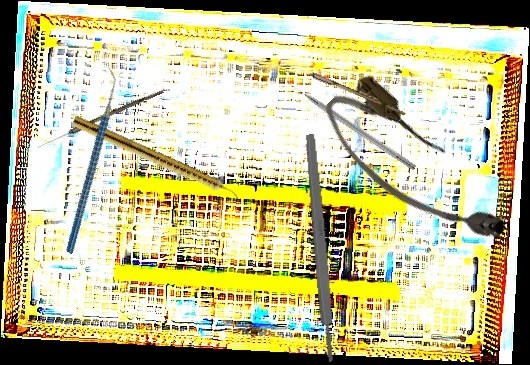Cannula: (311, 66, 518, 271)
Chopper: (9, 64, 171, 255)
Handpiece: (69, 115, 245, 204)
Hook Surgical: (284, 78, 418, 172)
Scalpel Handle: (303, 133, 337, 363)
Surgical Spoon: (36, 87, 164, 151), (276, 58, 408, 116)
